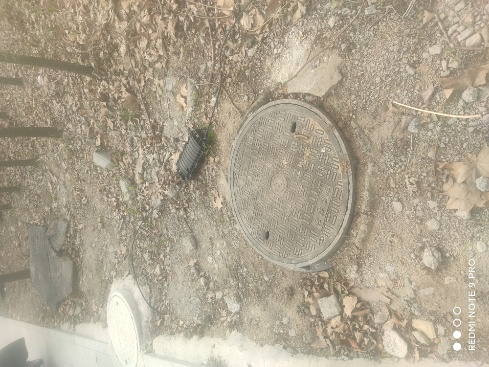good: (228, 98, 356, 267)
